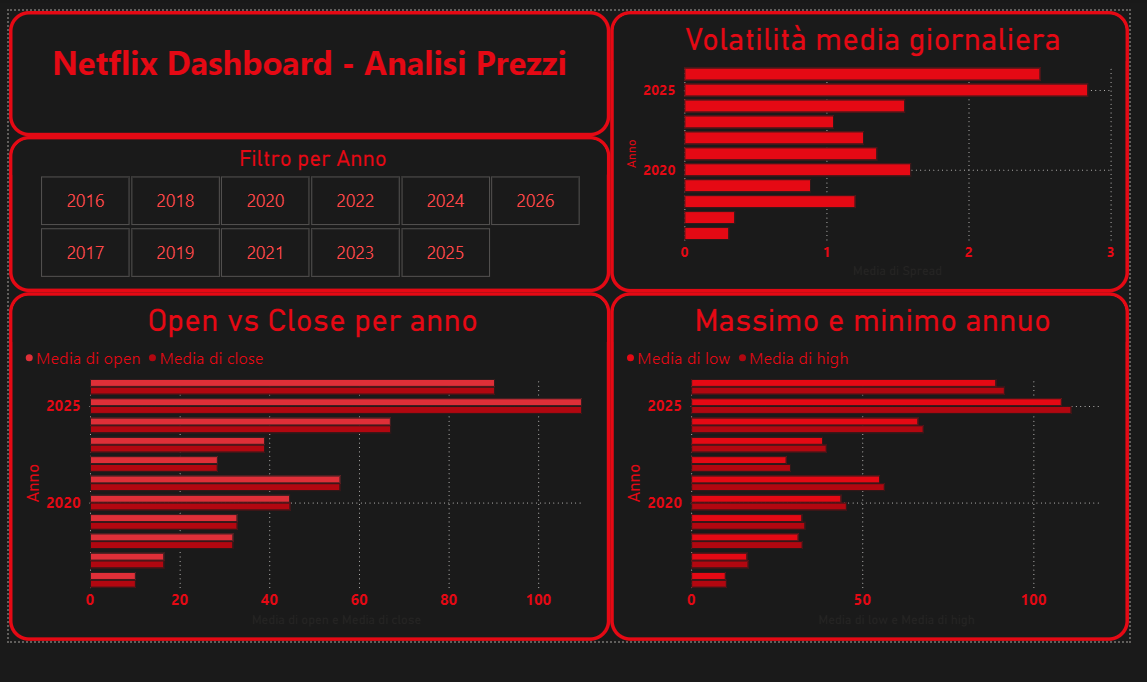

This screenshot's page, from the dashboard's own definition file:
{"tool":"powerbi","page":{"name":"Analisi Prezzi","canvas":[1280,720],"ordinal":1},"visuals":[{"type":"clusteredBarChart","title":"Open vs Close per anno","fields":{"Category":["NFLX.Anno"],"Y":["Avg(NFLX.open)","Avg(NFLX.close)"]},"box":[0,321.4,687.1,398.6],"z":0},{"type":"clusteredBarChart","title":"Massimo e minimo annuo","fields":{"Category":["NFLX.Anno"],"Y":["Avg(NFLX.low)","Avg(NFLX.high)"]},"box":[687.1,321.4,592.9,398.6],"z":1},{"type":"clusteredBarChart","title":"Volatilità media giornaliera","fields":{"Category":["NFLX.Anno"],"Y":["Avg(NFLX.Spread)"]},"box":[687.1,0,592.9,321.4],"z":2},{"type":"slicer","title":"Filtro per Anno","fields":{"Values":["NFLX.Anno"]},"box":[0,142.9,687.1,178.6],"z":3},{"type":"textbox","box":[0,0,687.1,142.9],"z":4}]}

Visuals, with their boxes on the page's 1280x720 design canvas (x1, y1, x2, y2). These are canvas units, not pixel positions in the 1147x682 screenshot, which may show the page scaled, cropped or inside an application window:
"Open vs Close per anno" clusteredBarChart: {"x1": 0, "y1": 321, "x2": 687, "y2": 720}
"Massimo e minimo annuo" clusteredBarChart: {"x1": 687, "y1": 321, "x2": 1280, "y2": 720}
"Volatilità media giornaliera" clusteredBarChart: {"x1": 687, "y1": 0, "x2": 1280, "y2": 321}
"Filtro per Anno" slicer: {"x1": 0, "y1": 143, "x2": 687, "y2": 322}
textbox: {"x1": 0, "y1": 0, "x2": 687, "y2": 143}
